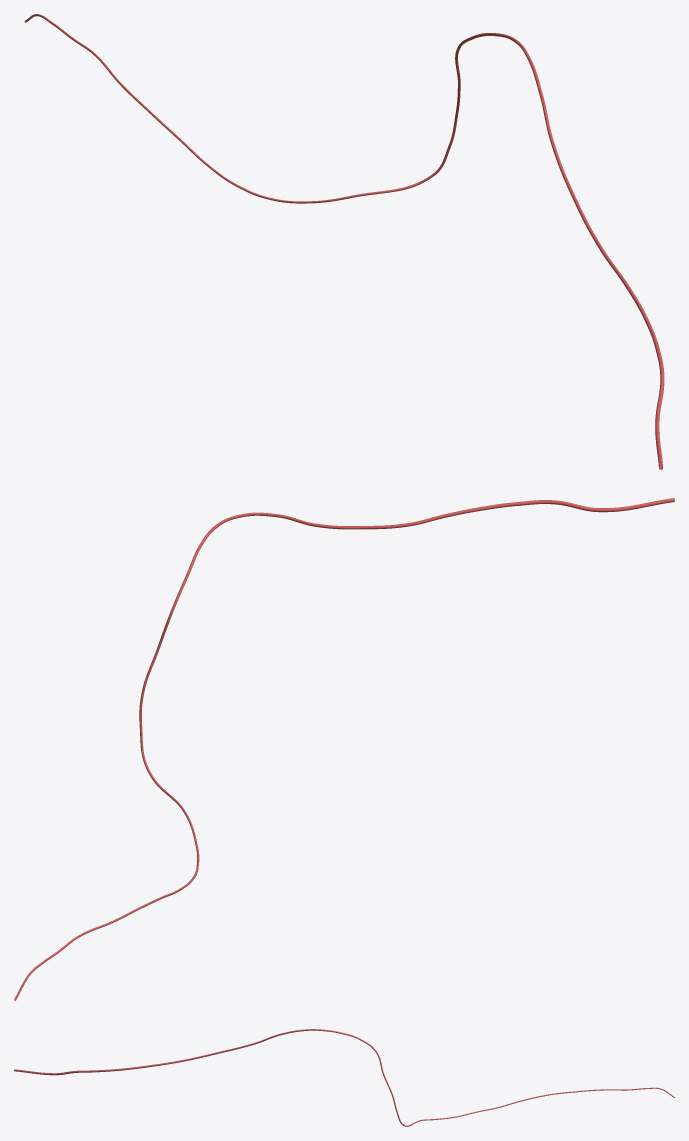
The picture shows the model from 3 angles, top to bottom: view 1: azimuth 30°, elevation 25°; view 2: azimuth 150°, elevation 25°; view 3: azimuth 270°, elevation 25°; orthographic projection. The views are drawn at different scales.
Visible parts, largest first — view 1: 左睾丸动脉; view 2: 左睾丸动脉; view 3: 左睾丸动脉.
Part boxes in pixels (x1,y1,x2,y2): 左睾丸动脉: [24, 14, 664, 469]; 左睾丸动脉: [14, 498, 674, 1000]; 左睾丸动脉: [14, 1029, 674, 1126].
Size of the model in its own units: 0.0812 by 0.1012 by 0.5261.
